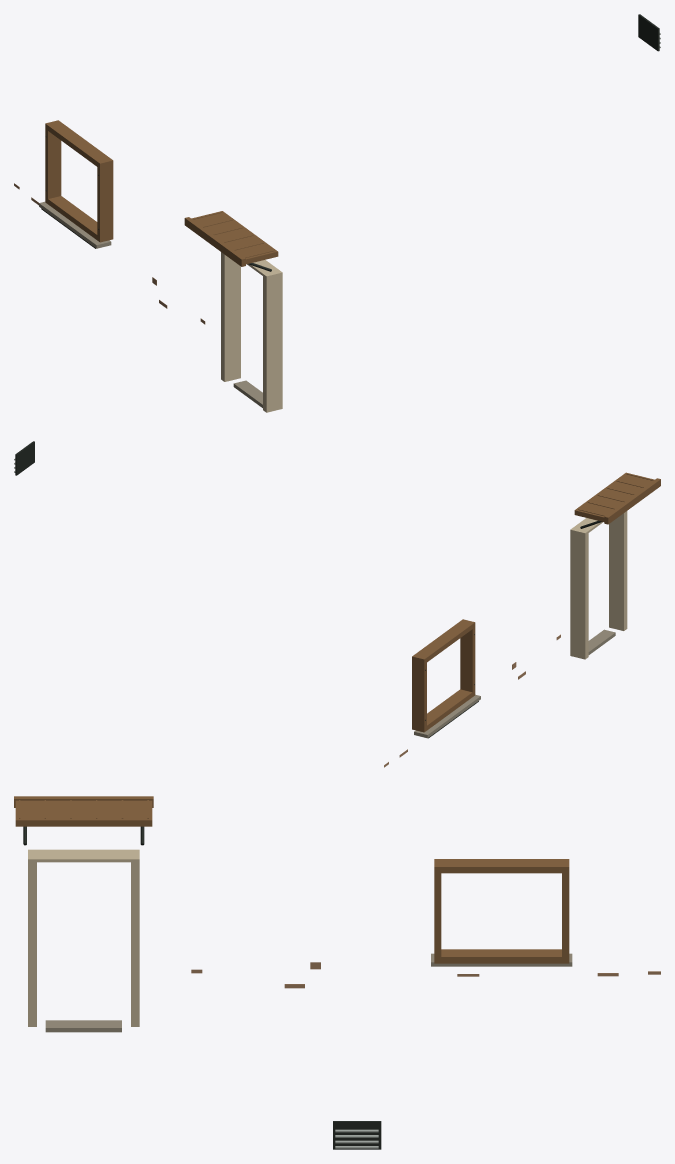
Rendered from SM_Homes_H01_Fixtures_LOD1.fbx.
The picture shows the model from 3 angles, top to bottom: view 1: azimuth 30°, elevation 25°; view 2: azimuth 150°, elevation 25°; view 3: azimuth 270°, elevation 25°; orthographic projection. The views are drawn at different scales.
Visible parts, largest first — view 1: SM_Homes_H01_Fixtures_LOD1; view 2: SM_Homes_H01_Fixtures_LOD1; view 3: SM_Homes_H01_Fixtures_LOD1.
Boxes of the visible parts, box(x1,y1,x2,y2) form: SM_Homes_H01_Fixtures_LOD1: box(14, 14, 660, 412); SM_Homes_H01_Fixtures_LOD1: box(14, 441, 660, 767); SM_Homes_H01_Fixtures_LOD1: box(14, 796, 660, 1149).
Bounding box in the file's own units: 9.71 × 8.05 × 2.88.
